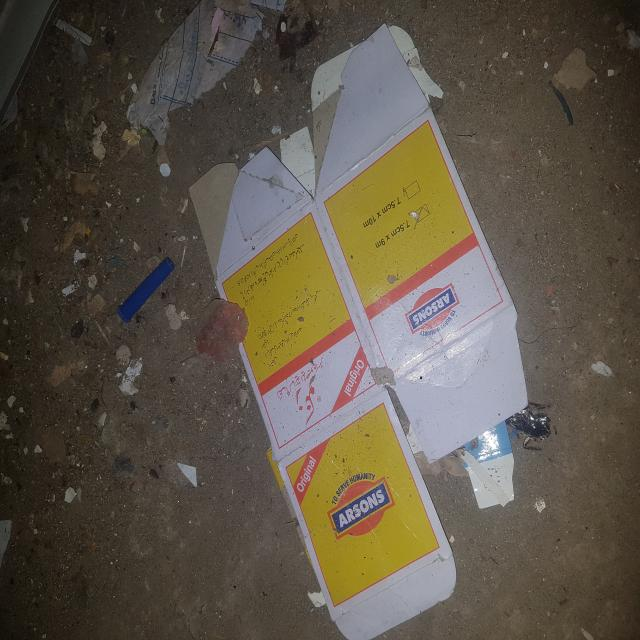electronic: (183, 23, 540, 639)
